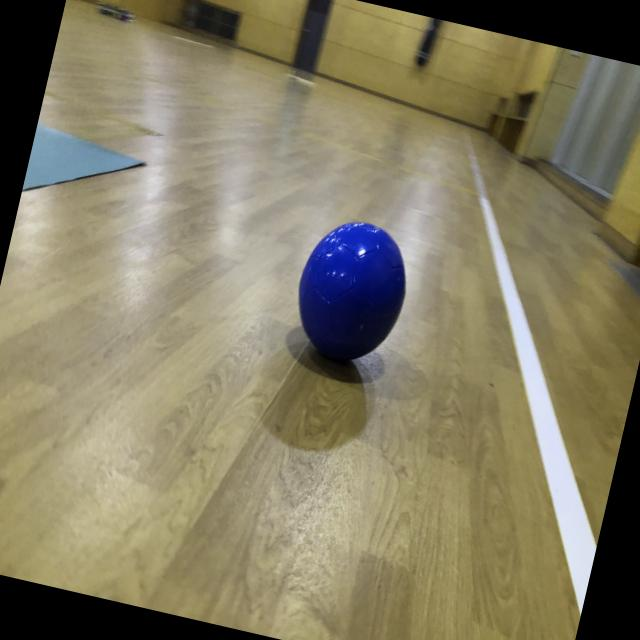blue_ball: (286, 211, 418, 372)
